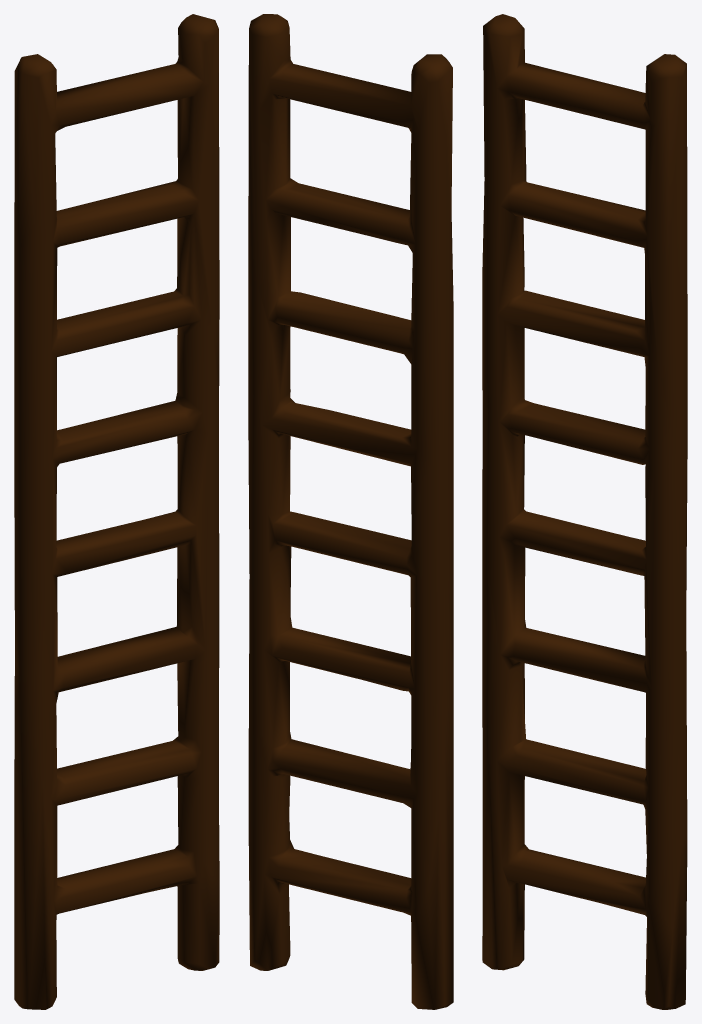
File: gen3d-ladder-lod1.glb
3 views of the same model, side by side, from view 1: azimuth 30°, elevation 25°; view 2: azimuth 150°, elevation 25°; view 3: azimuth 330°, elevation 25° (orthographic).
Parts seen in each view (by area): view 1: part_0; view 2: part_0; view 3: part_0.
Part boxes in pixels (x1,y1,x2,y2): part_0: (14,14,219,1009); part_0: (248,14,453,1009); part_0: (482,14,687,1009).
Size of the model in its own units: 0.221 by 0.9995 by 0.0435.
